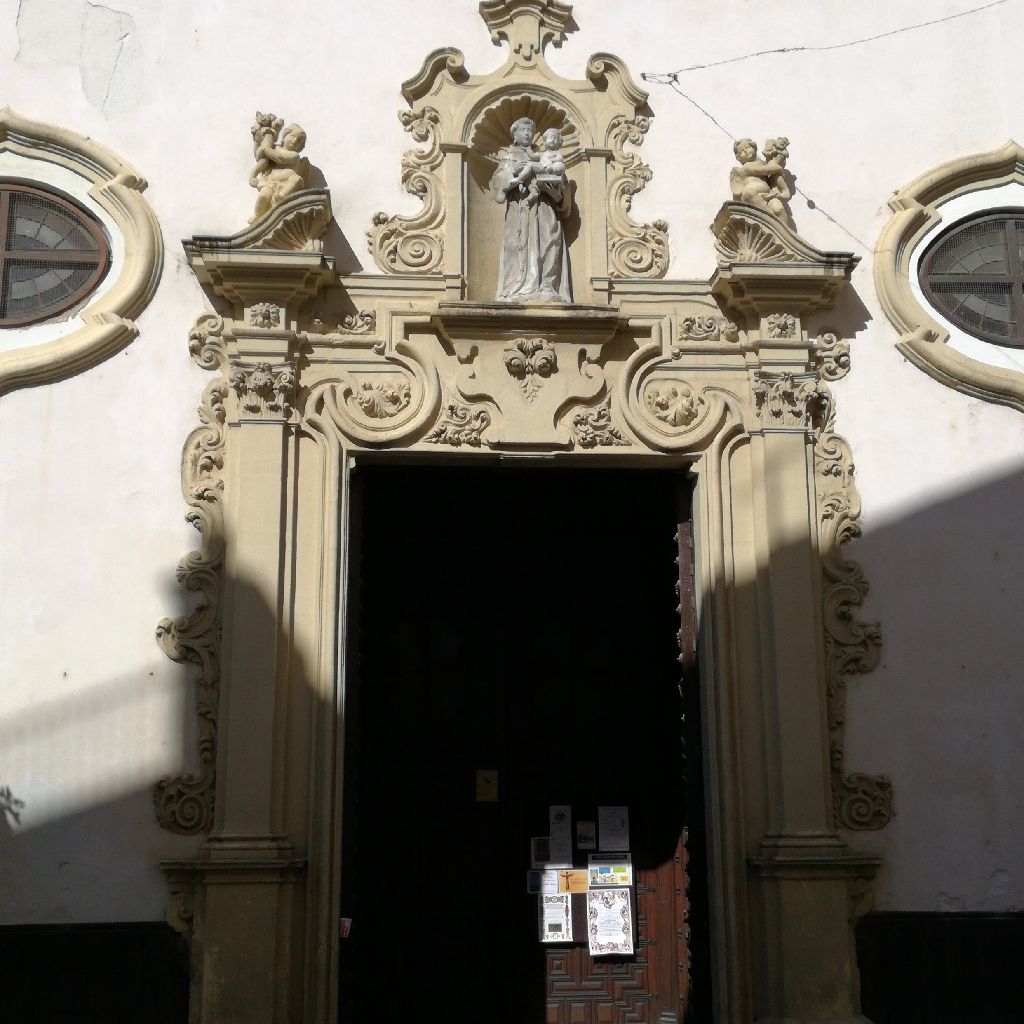fronton-partido: (181, 187, 859, 290)
vano-adintelado: (311, 427, 746, 1024)
